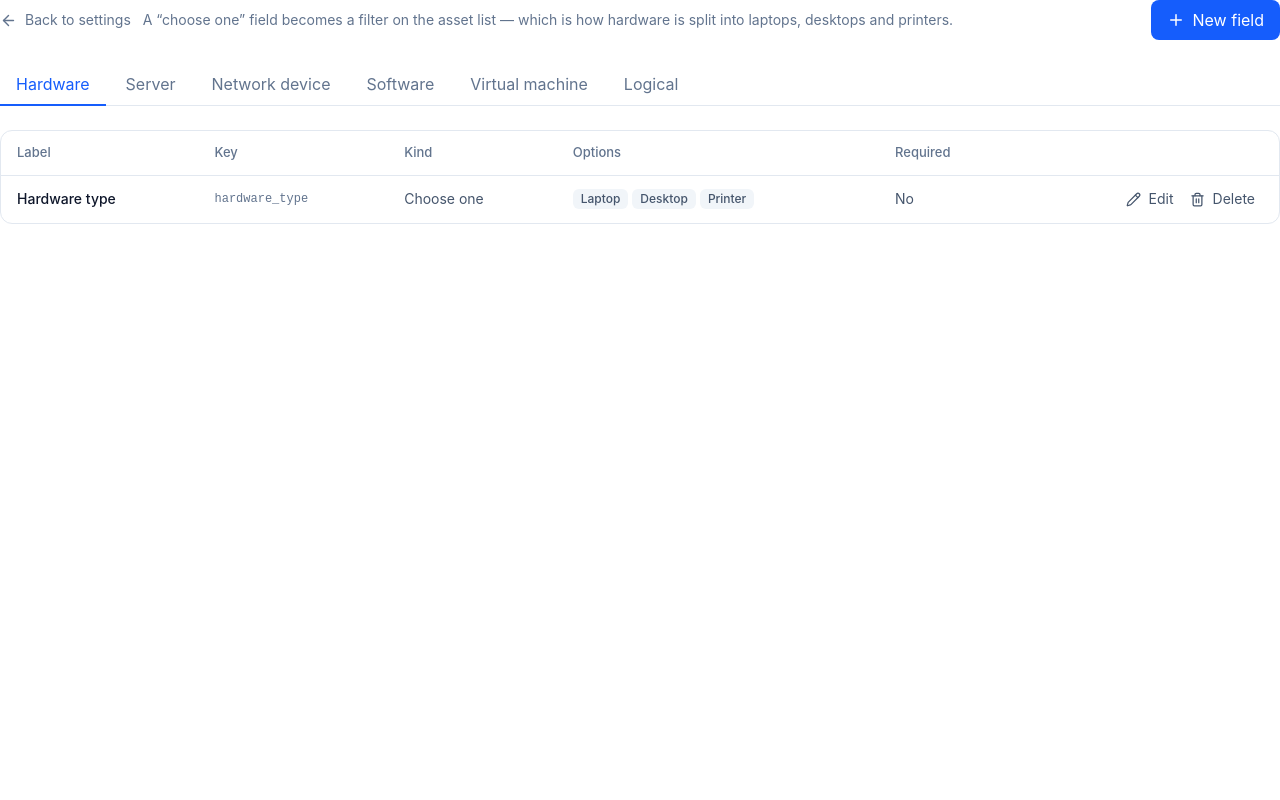
Scenario: a refused option removal keeps the dialog open with the reason in it
Expected: the text "Hardware type" is shown, [1, 175, 198, 223]
Step 1. Click the button with aria-label "Edit Hardware type" → (1150, 199), box [1118, 183, 1182, 215]
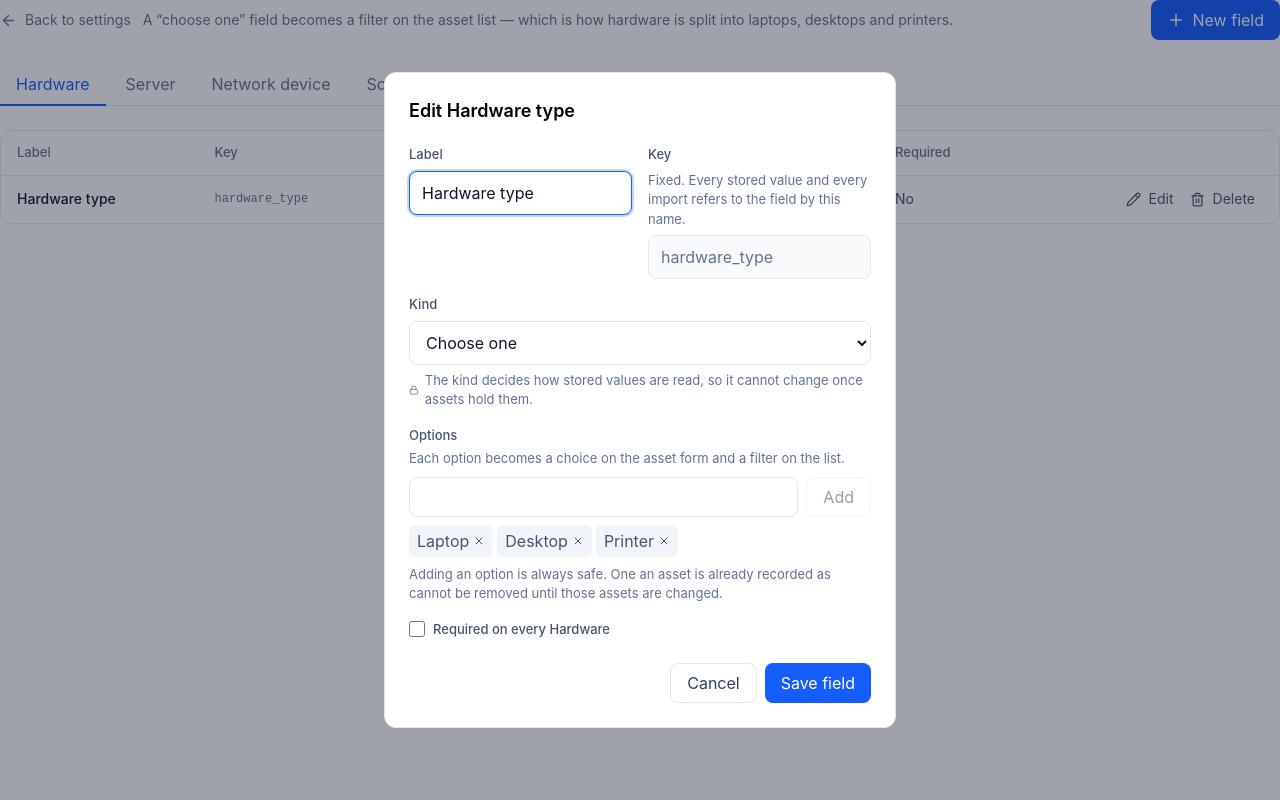
Step 2. Click the button with aria-label "Remove Printer" → (637, 540), box [596, 524, 678, 556]
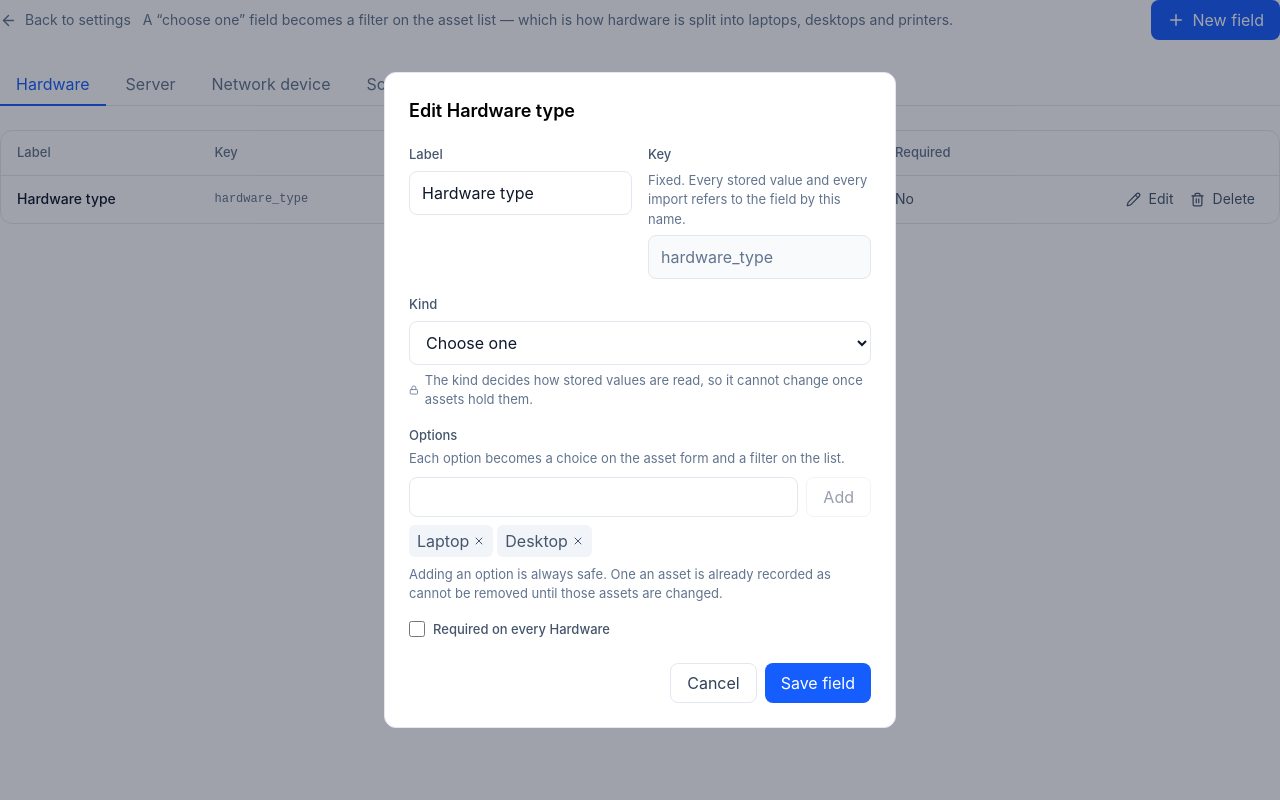
Step 3. Click the button "Save field" → (818, 683), box [765, 663, 871, 703]
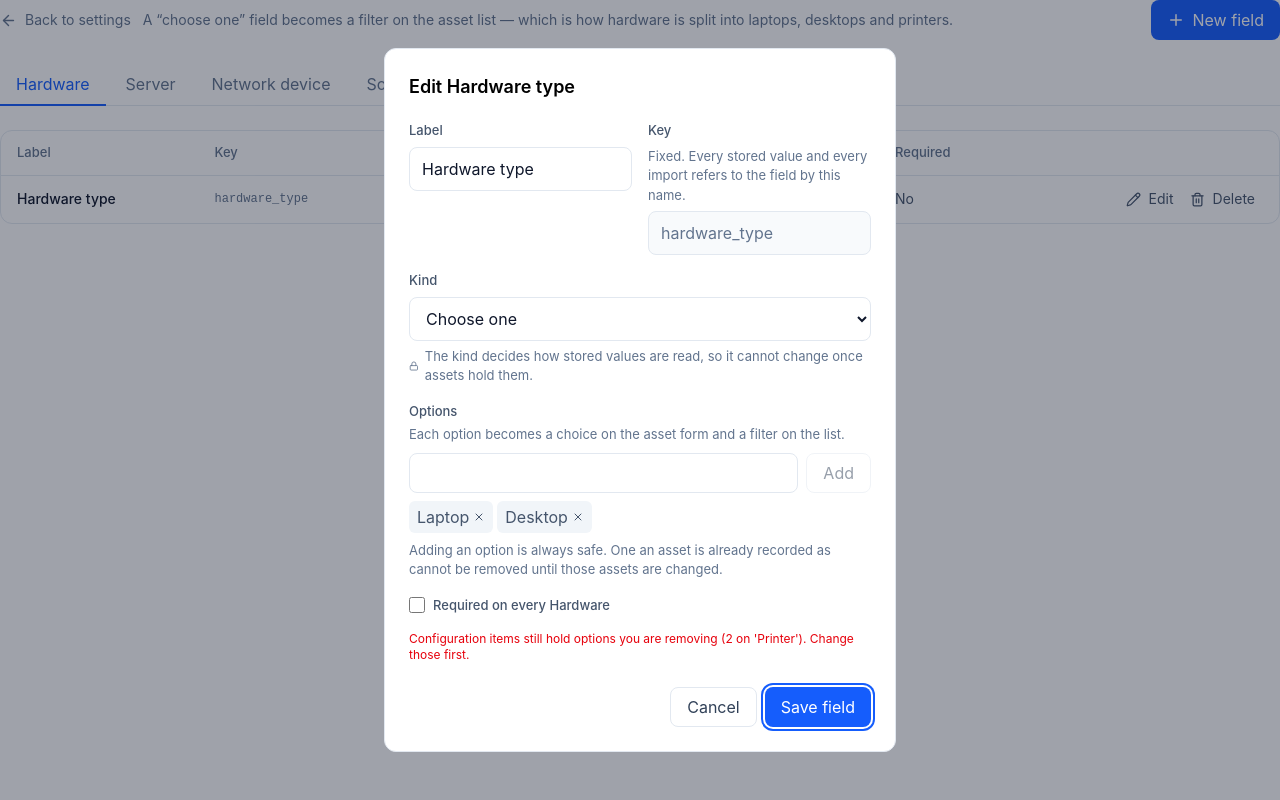
Expected: the dialog is shown
Expected: the message shows "2 on 'Printer'", [409, 631, 854, 662]
